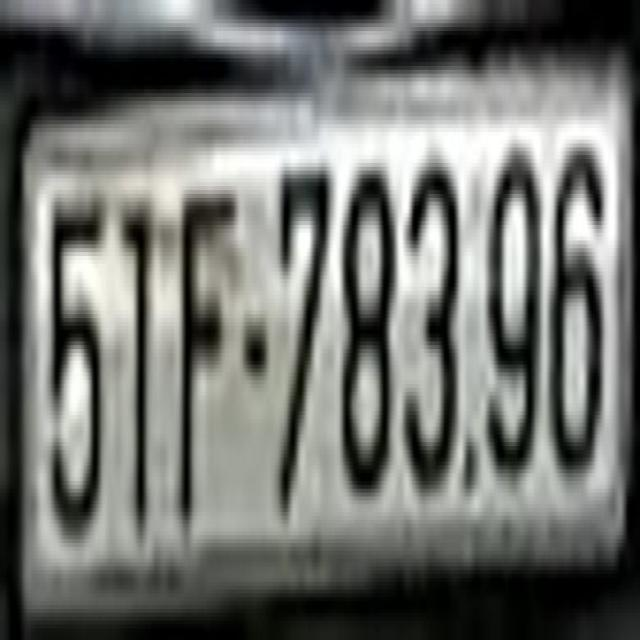1: (117, 198, 152, 528)
3: (406, 151, 458, 512)
5: (49, 198, 101, 528)
6: (553, 136, 602, 488)
7: (284, 143, 328, 554)
8: (342, 182, 396, 504)
9: (489, 112, 538, 474)
F: (177, 163, 240, 551)
